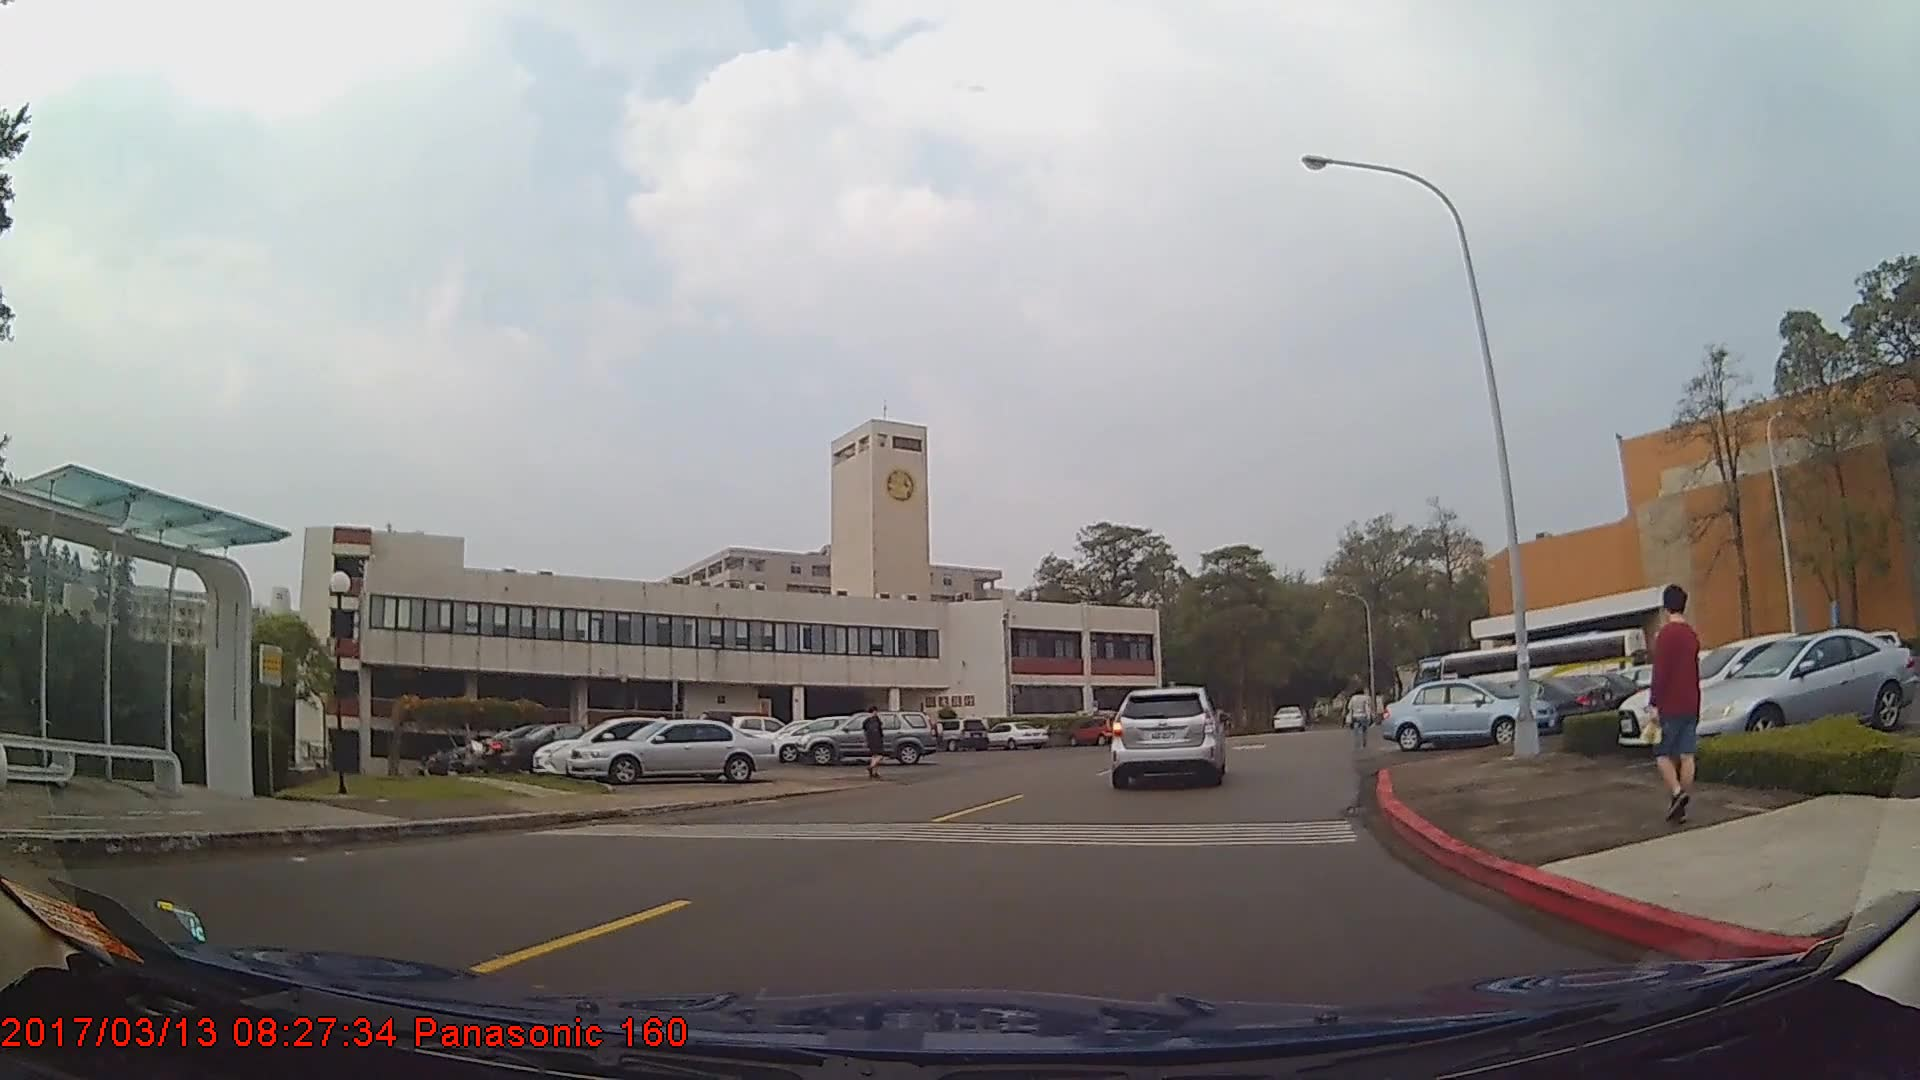pedestrian: (1655, 580, 1711, 813), (1346, 687, 1378, 750), (865, 704, 889, 777)
vehicle: (1615, 630, 1869, 746), (1679, 625, 1914, 745), (567, 716, 778, 783), (526, 711, 735, 774), (1379, 674, 1555, 746), (1112, 686, 1223, 789), (1438, 671, 1611, 729), (496, 719, 647, 773), (797, 708, 941, 764), (924, 716, 989, 751), (982, 719, 1050, 750), (1069, 713, 1130, 744), (1273, 701, 1303, 728)
